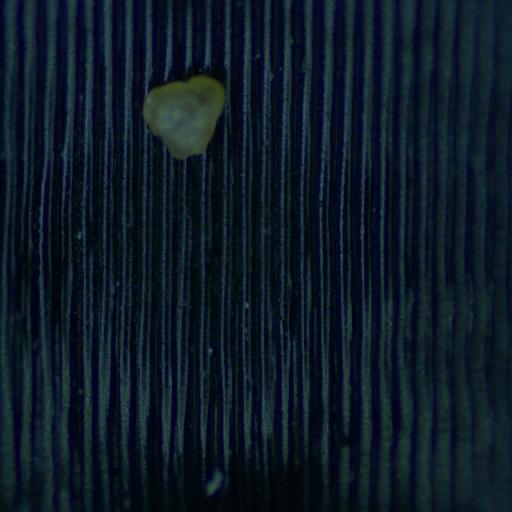mineral: (143, 76, 225, 159)
